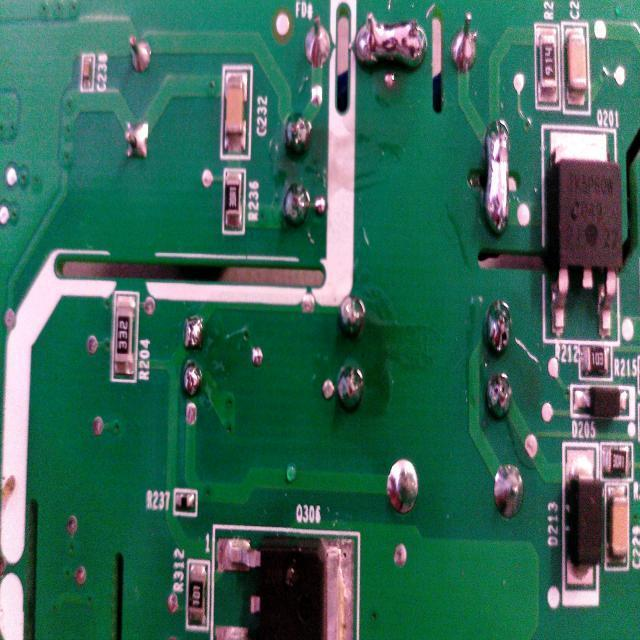Soldering shorted: (350, 12, 430, 76), (474, 106, 512, 236)
